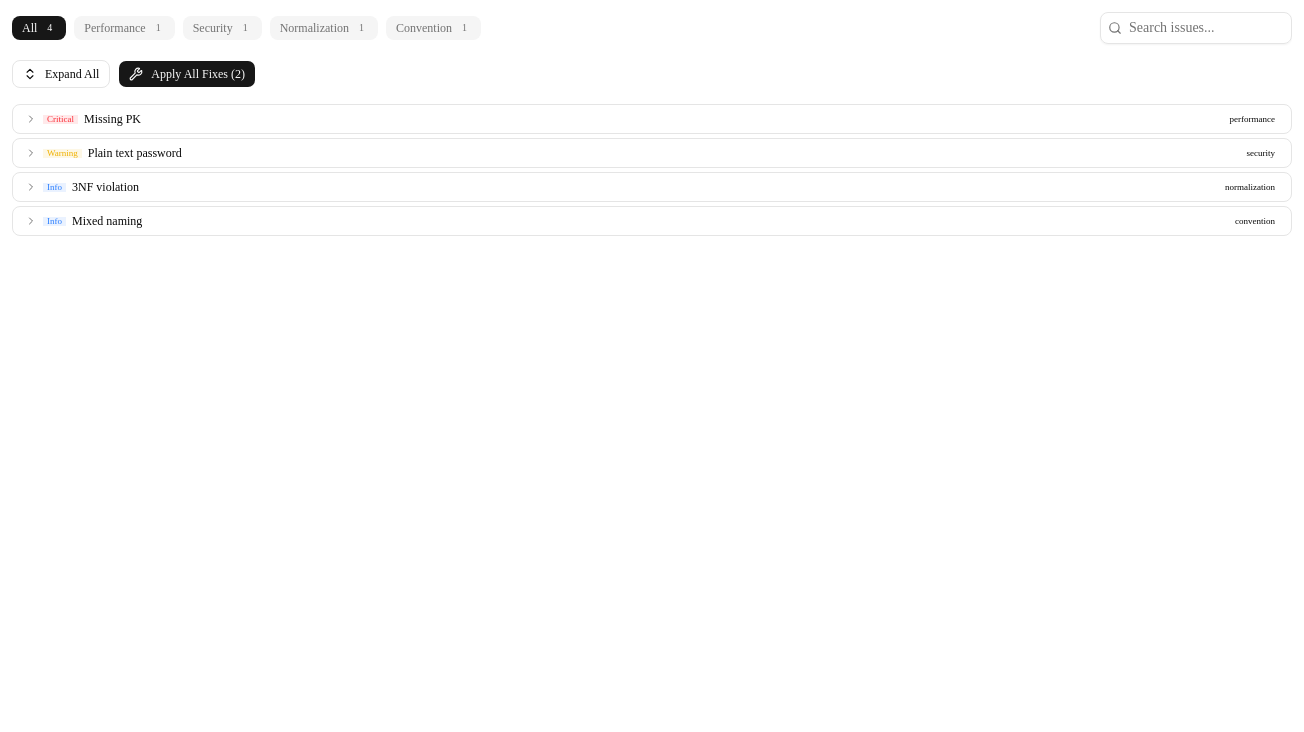
Test case: IssuesList › toggles to Collapse All on click
This screenshot has width=1304, height=732.
Click the button "Expand All".
click(61, 74)  # box [12, 60, 110, 88]
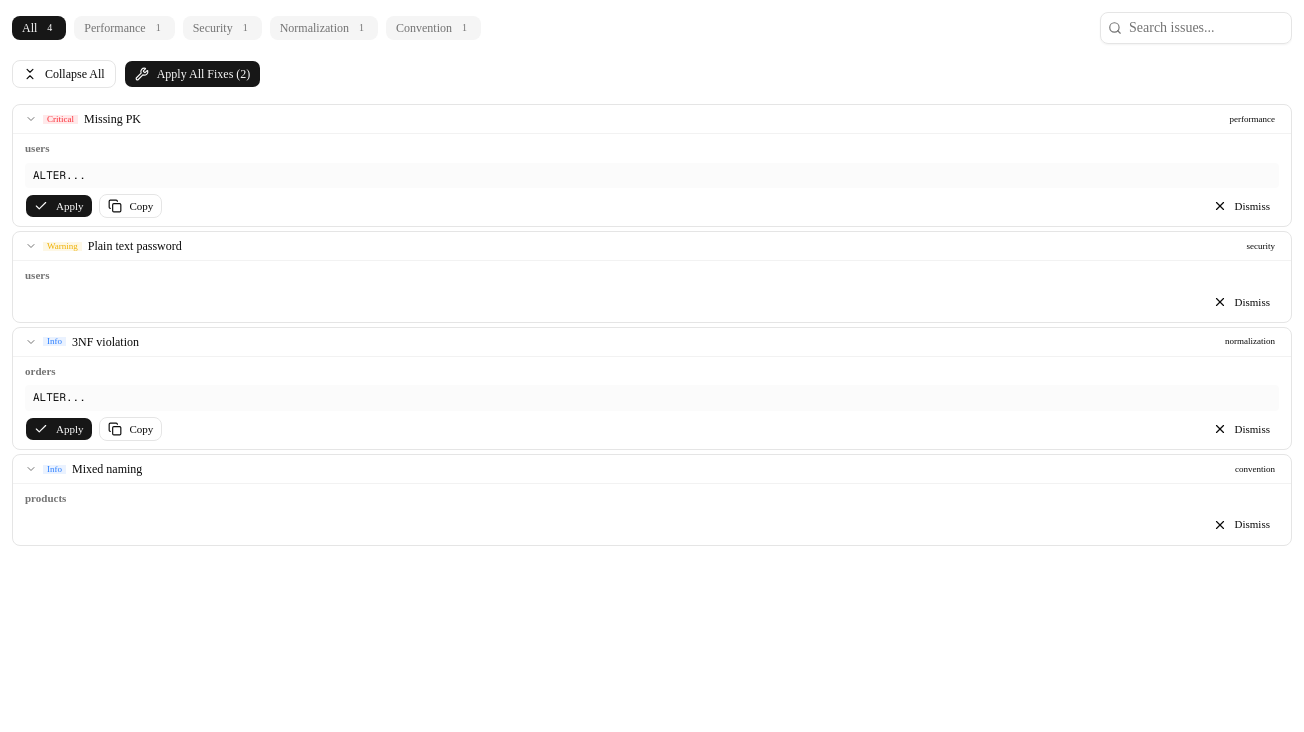
Check: the button "Collapse All" is shown, box [12, 60, 116, 88]
